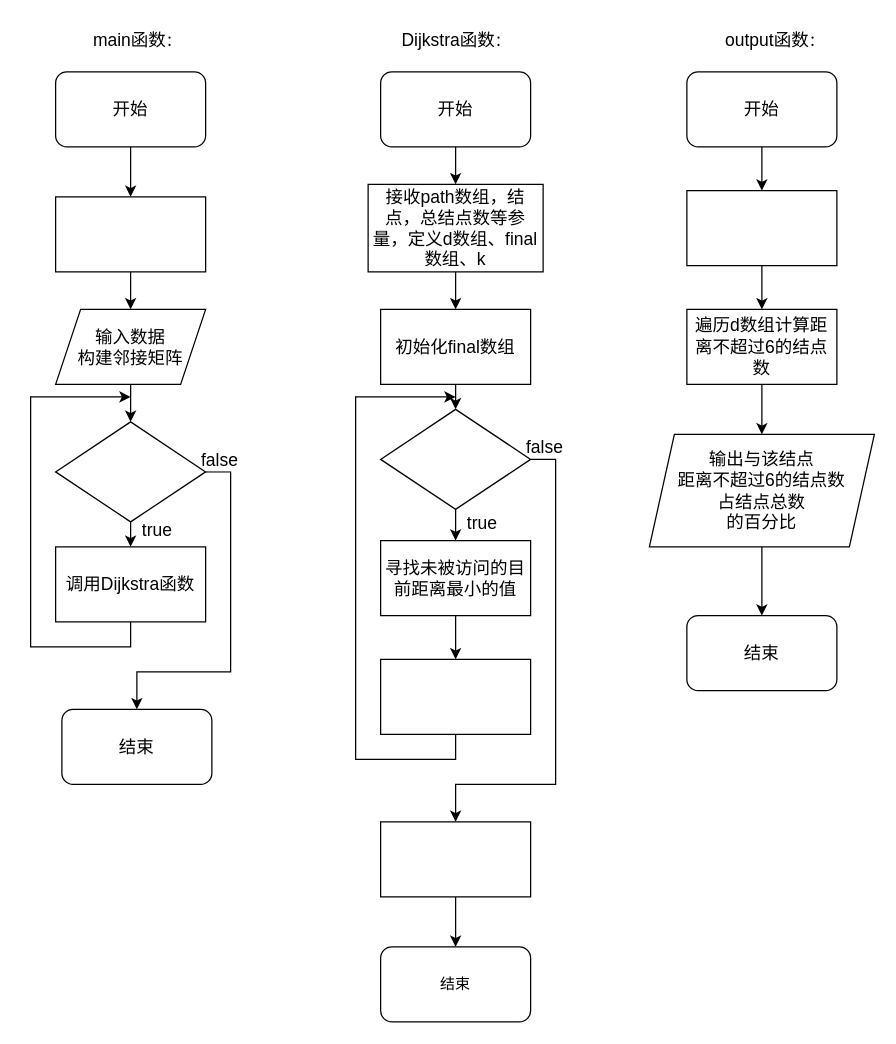
This 896x1044 diagram has some shape labels left out. Here are the shapes that lost their labels. From the top down, the box of each, then its label:
(54, 196, 206, 272): 定义path数组、n、m、p1、p2、i等变量
(686, 189, 837, 266): 接收d数组、结点编号、总结点数
(54, 421, 206, 522): i <= n(结点数)
(379, 408, 531, 509): k <= n
(379, 658, 531, 734): 将找到的值置为已访问并更新d数组
(379, 821, 531, 897): 调用output函数
